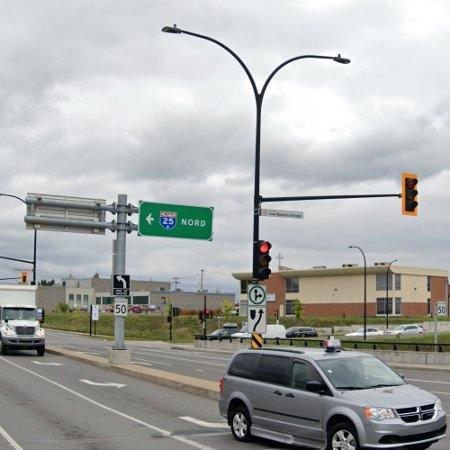traffic lights: (253, 241, 272, 280), (403, 173, 419, 216)
